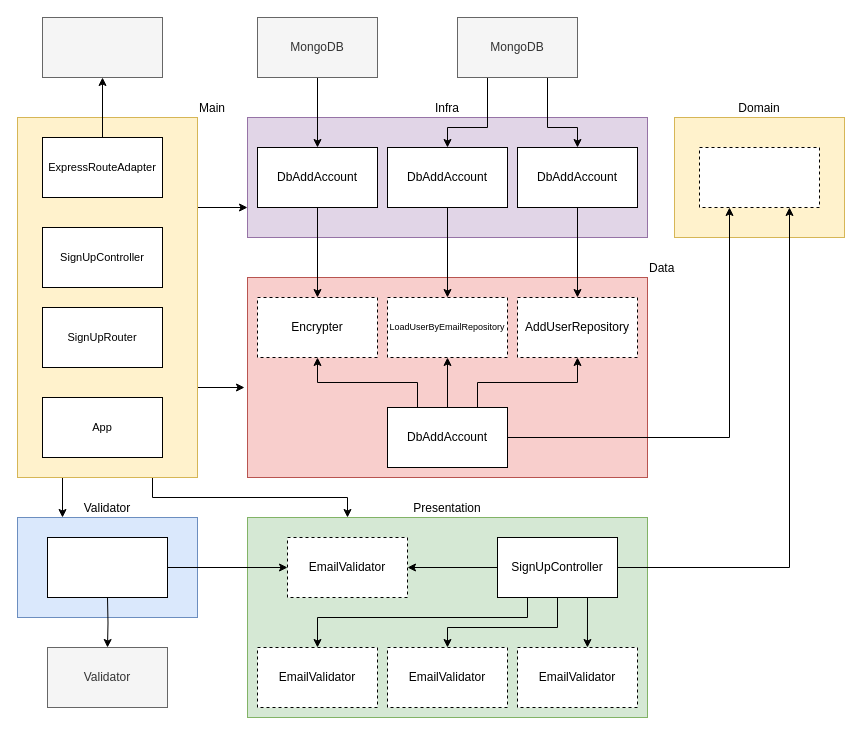
Image size: 862x735. Some labels were removed from this diagram. Here are the shapes that lost their labels. From the top down, the centre of each, then its label:
point (102, 47): Express
point (759, 177): AddAccount
point (107, 567): EmailValidatorAdapter
